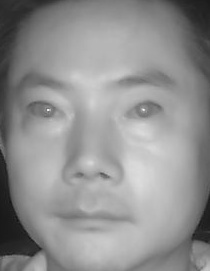eye: (21, 96, 65, 124), (122, 97, 165, 124)
mouth: (55, 198, 132, 240)
